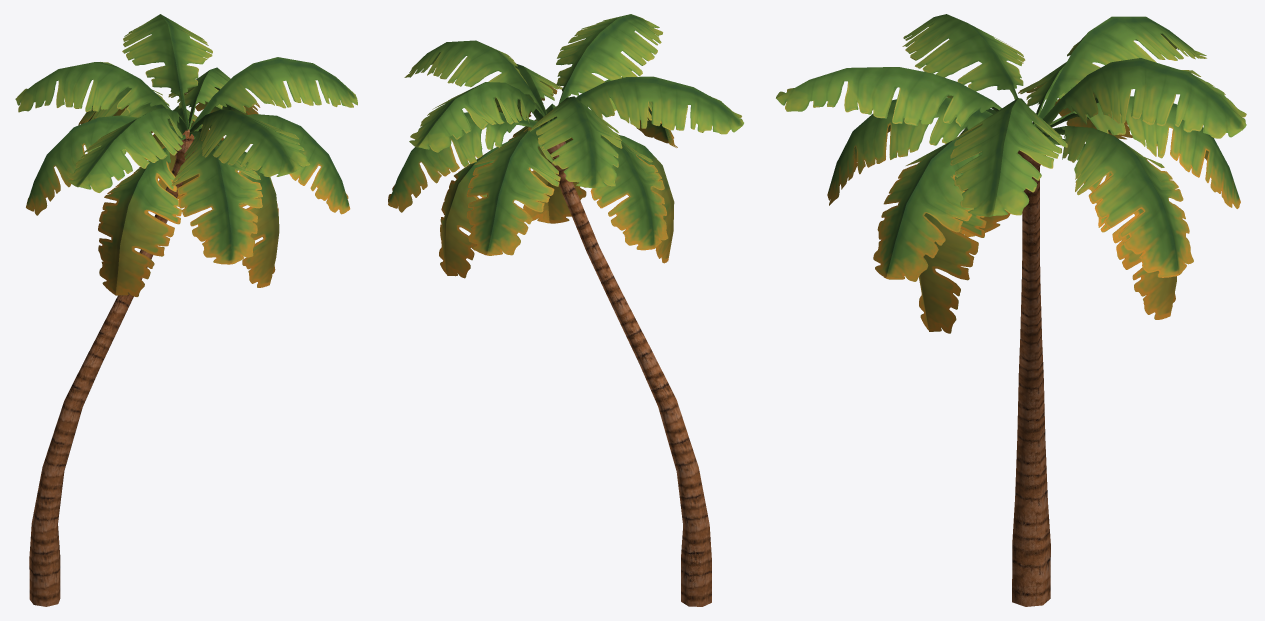
The model's file is Fbx_PalmTree_3.fbx.
3 views of the same model, side by side, from view 1: azimuth 30°, elevation 25°; view 2: azimuth 150°, elevation 25°; view 3: azimuth 270°, elevation 25° (orthographic). The views are drawn at different scales.
Visible parts, largest first — view 1: Leaves_3, Tree_3; view 2: Leaves_3, Tree_3; view 3: Leaves_3, Tree_3.
Boxes of the visible parts, bbox=[...] form: Leaves_3: bbox=[15, 14, 357, 296]; Tree_3: bbox=[29, 129, 197, 606]; Leaves_3: bbox=[388, 14, 743, 278]; Tree_3: bbox=[547, 141, 711, 606]; Leaves_3: bbox=[776, 14, 1246, 333]; Tree_3: bbox=[1012, 150, 1050, 606].
Size of the model in its own units: 3.07 by 4.77 by 3.2.
